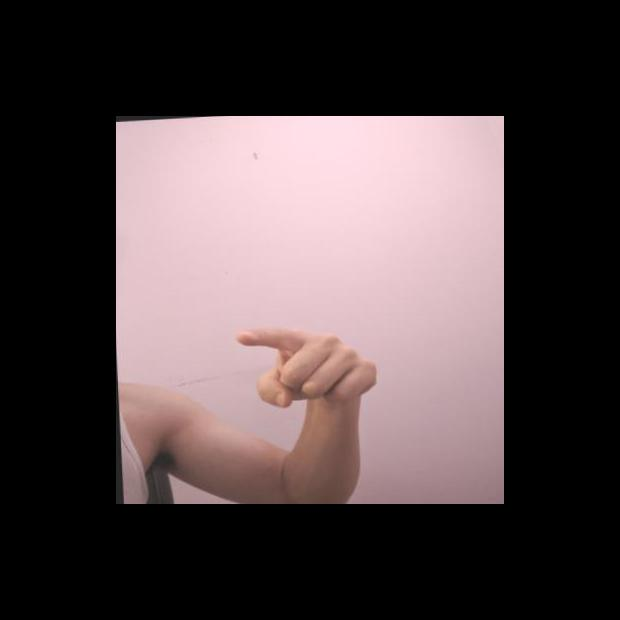Y: (230, 319, 381, 415)
